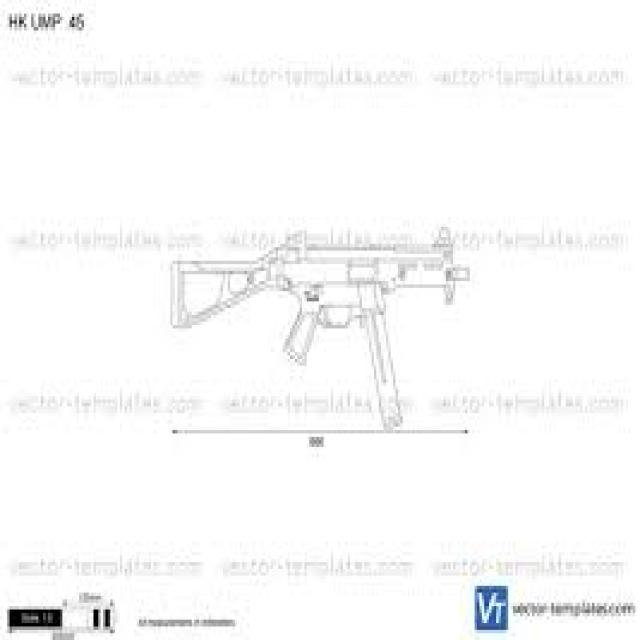Gun: (120, 190, 470, 465)
